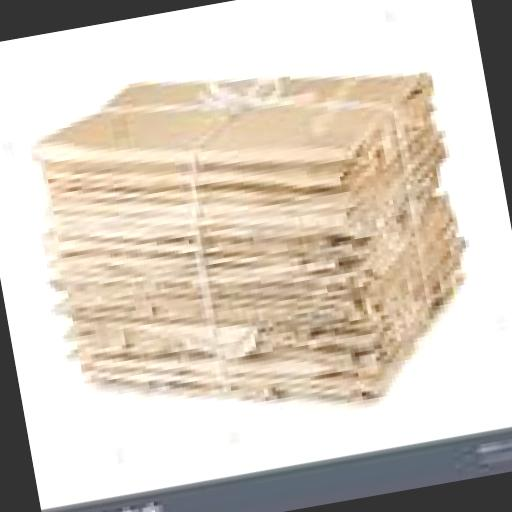cardboard: (14, 28, 485, 450)
